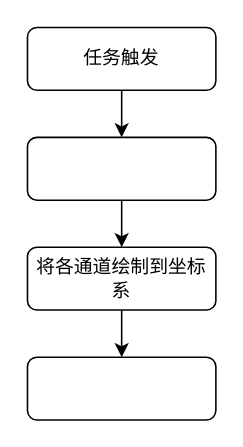
The diagram is 243 pixels wide and 447 high, and some of its shapes have lost their labels. The box of each missing label's shape, as (x1, y1, x2, y2) in pixels:
提取图像颜色通道: (26, 136, 216, 200)
结果输出: (26, 356, 216, 420)
